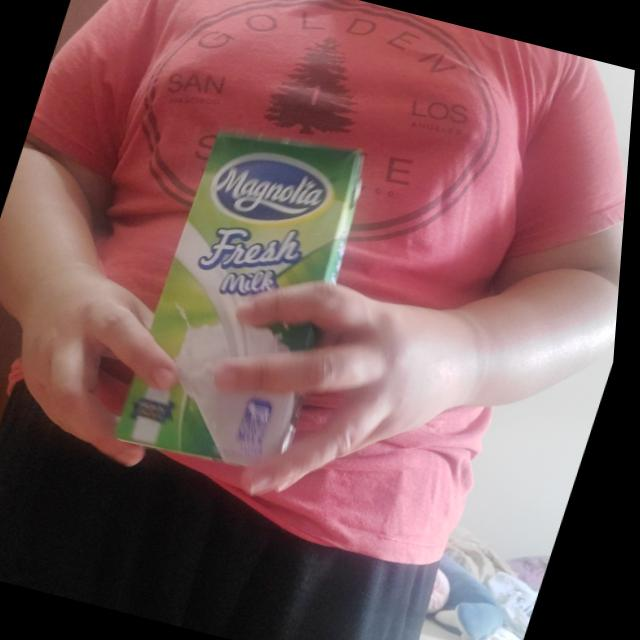milk: (113, 110, 387, 483)
